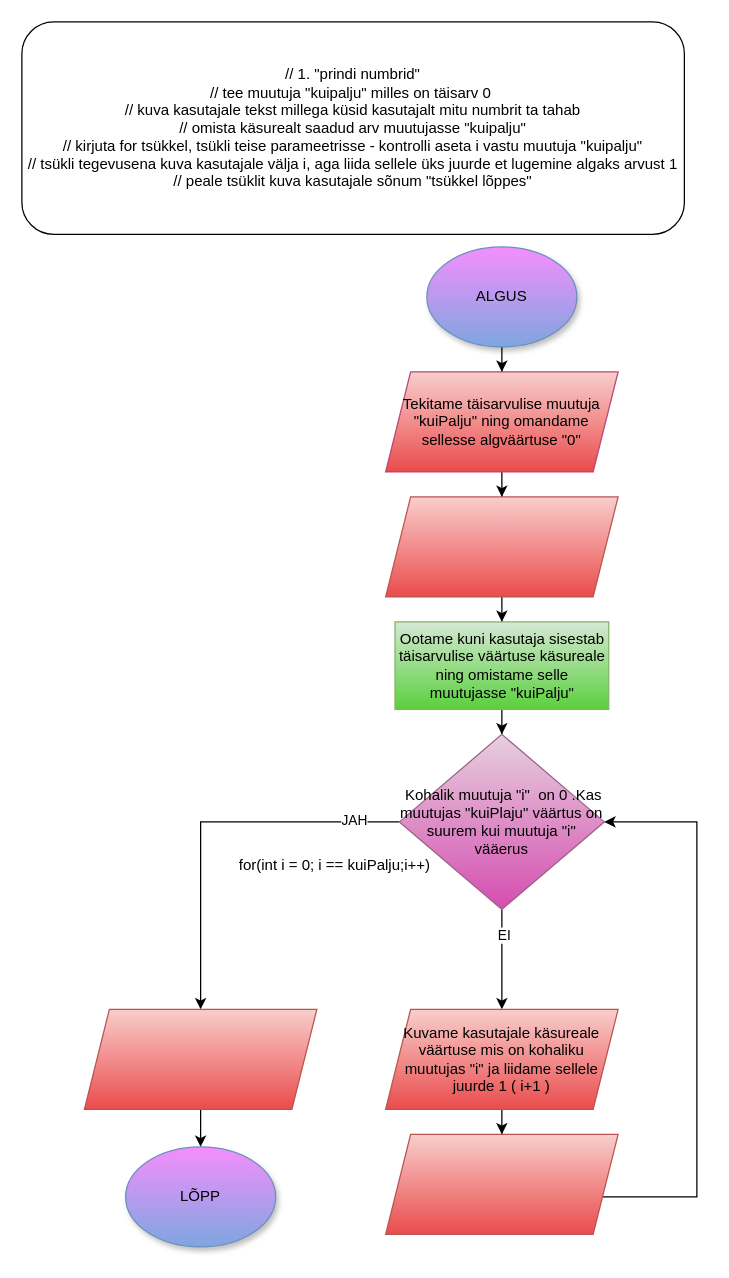
Image size: 729x1278. Some labels were removed from this diagram. The centre of each missing label's shape, as x and y in pixels:
Kiirtehte abil (for-i sees) liidame juurde kohalikule muutujale "i" ühe: pixel 501 1183
Kuvame kasutajale käsurea peale teksti "Tsükkel lõppes": pixel 200 1058
Kuvame kasutajale teksti "Mitu numbrit soovid saada ?": pixel 501 546
